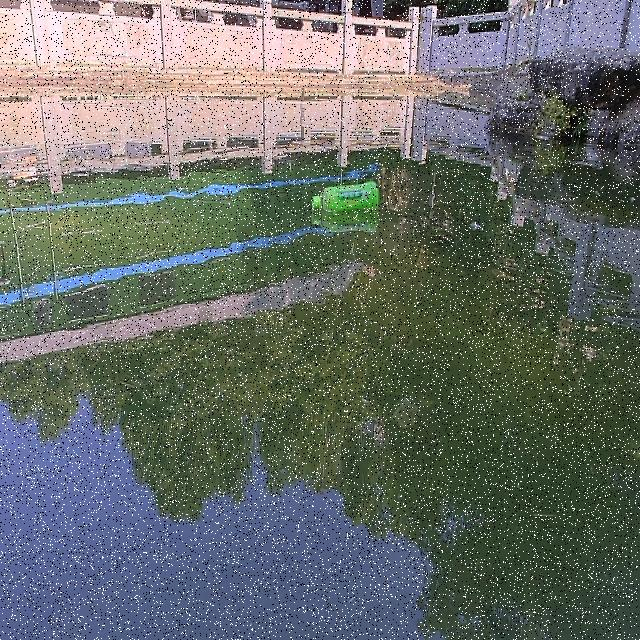bottle: (307, 179, 383, 216)
